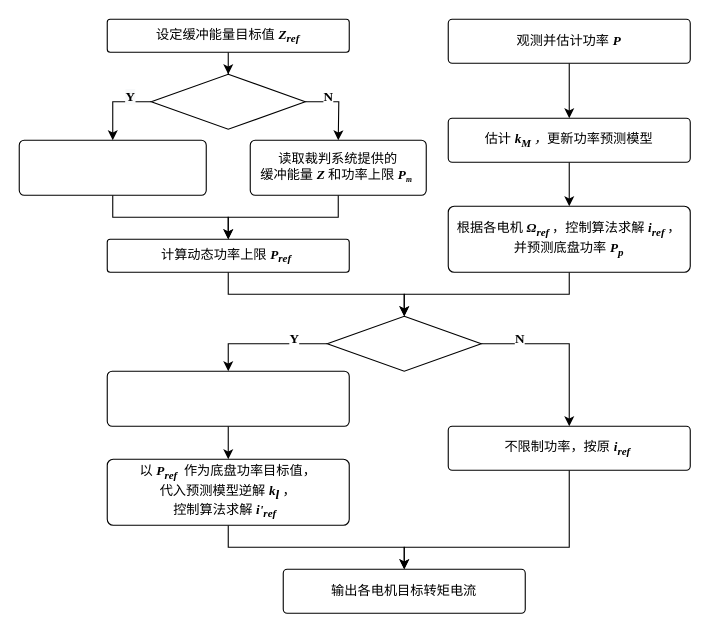
The diagram is 710 pixels wide and 633 high, and some of its shapes have lost their labels. Each missing label, with the centre of its shape:
P p > P ref ?: the point at 403,343
使用超电？: the point at 227,101
同比例削减各电机转速 Ω' ref = k l Ω ref: the point at 227,398
读取超电主控提供的 伪缓冲能量 Z' 和 功率上限 P' m: the point at 112,167
